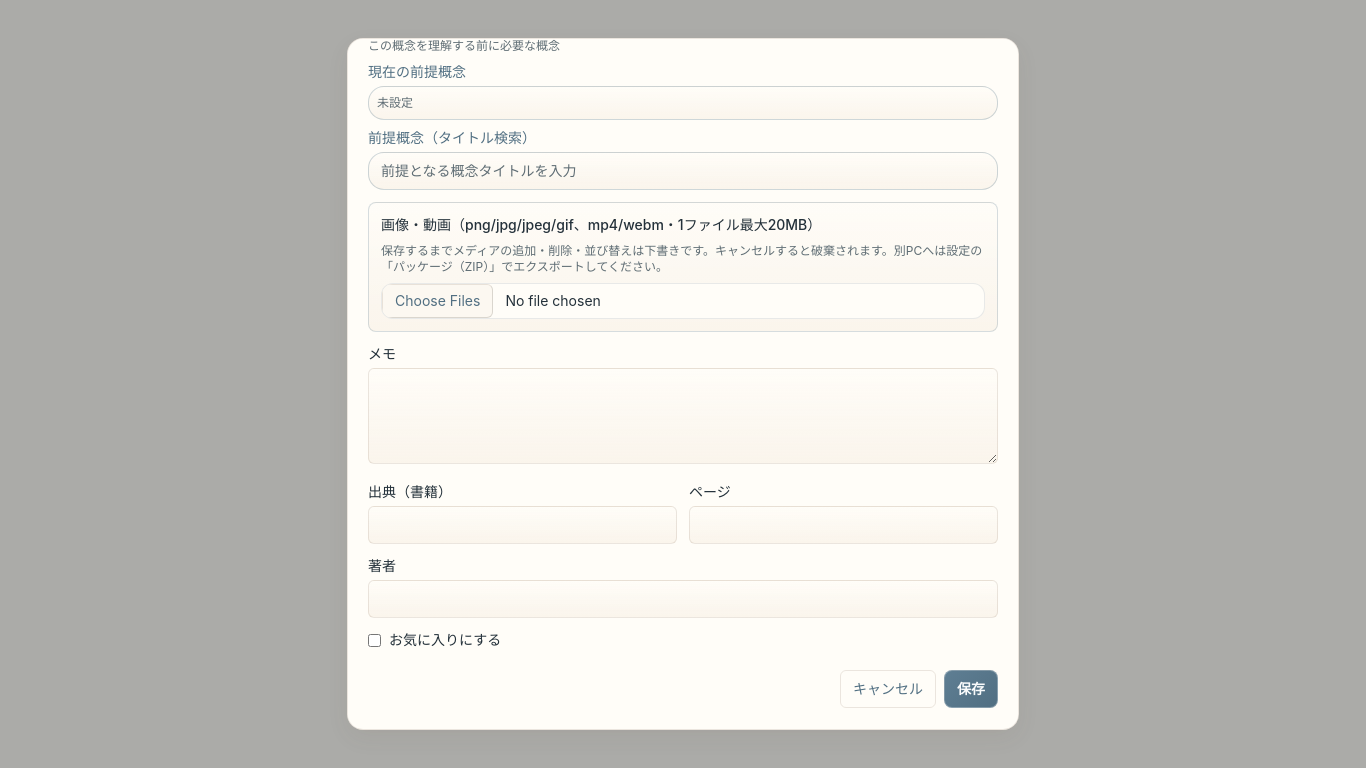
Test case: ConceptFormModal prerequisites (#118) › cycle 保存エラーをユーザーへ表示する
(page scrolled)
Click the button "保存" at (971, 689), box [944, 670, 998, 708]
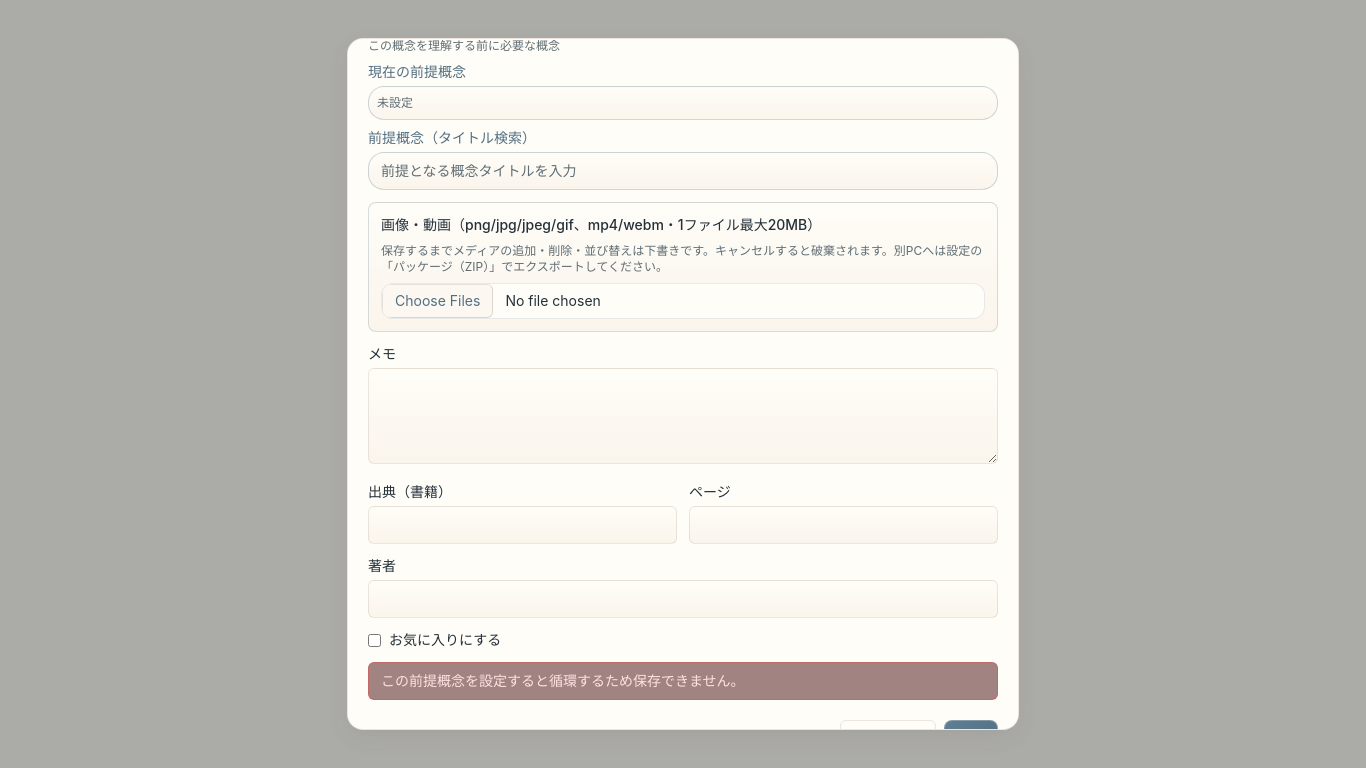
Expected: the text "この前提概念を設定すると循環するため保存できません。" is shown, [368, 662, 998, 700]
